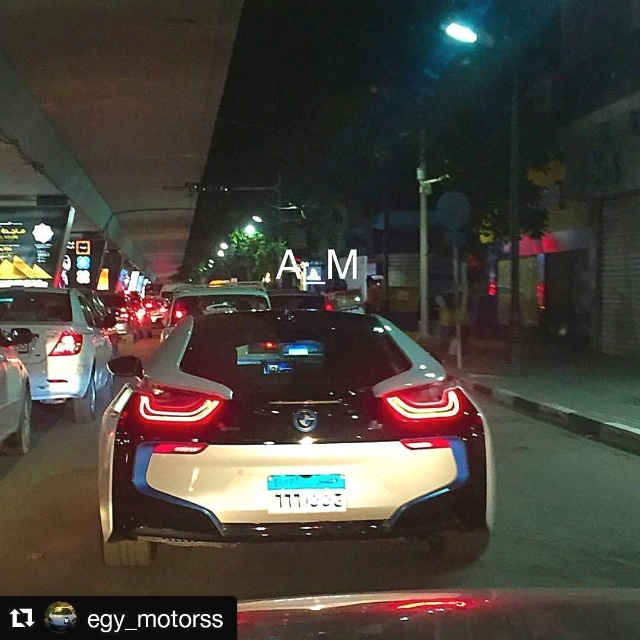License Plate: (264, 471, 348, 517)
